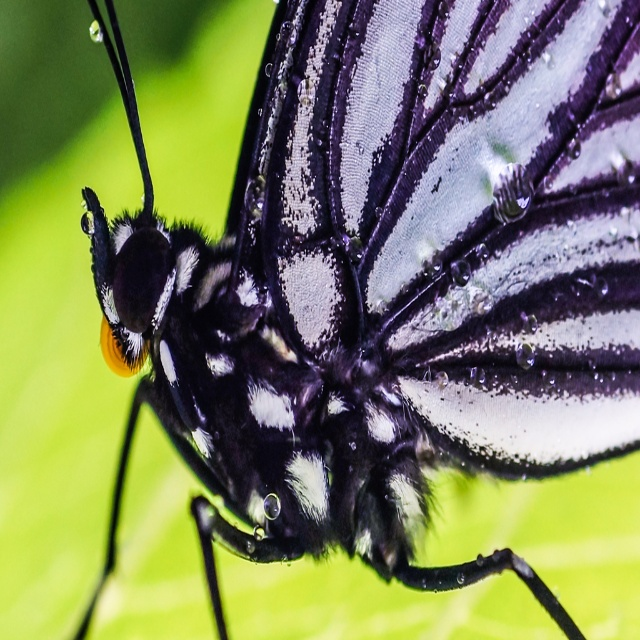Butterfly: (101, 0, 612, 640)
